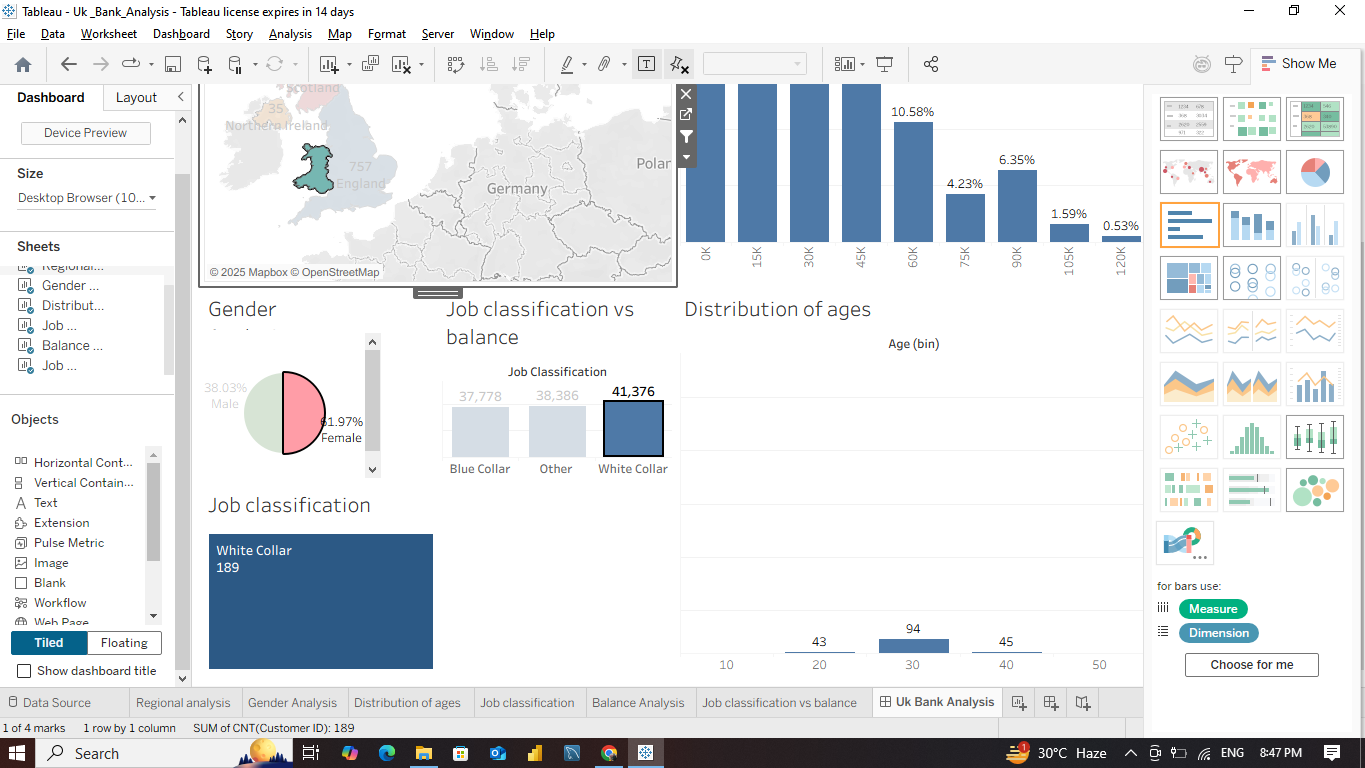

What the dashboard file says about the page in this screenshot:
{"tool":"tableau","page":{"name":"Uk Bank Analysis","canvas":[1000,800],"ordinal":0},"visuals":[{"type":"worksheet","title":"Regional analysis","mark":"Multipolygon","box":[8,8,476,392]},{"type":"worksheet","title":"Balance Analysis","mark":"Bar","rows":["Customer ID"],"cols":["Balance (bin)"],"box":[484,8,476,392]},{"type":"legend","title":"Gender Analysis","param":"[federated.0fj4sqn06t5uvo1am1fju0y30wbb].[none:Gender:nk]","box":[960,8,32,66]},{"type":"filter","title":"Regional analysis","param":"[federated.0fj4sqn06t5uvo1am1fju0y30wbb].[cnt:Customer ID:qk]","box":[960,74,32,69]},{"type":"filter","title":"Regional analysis","param":"[federated.0fj4sqn06t5uvo1am1fju0y30wbb].[none:Region:nk]","box":[960,143,32,127]},{"type":"legend","title":"Regional analysis","param":"[federated.0fj4sqn06t5uvo1am1fju0y30wbb].[none:Region:nk]","box":[960,270,32,106]},{"type":"legend","title":"Job classification","param":"[federated.0fj4sqn06t5uvo1am1fju0y30wbb].[cnt:Customer ID:qk]","box":[960,376,32,65]},{"type":"worksheet","title":"Gender Analysis","mark":"Pie","box":[8,400,238,196]},{"type":"worksheet","title":"Job classification vs balance","mark":"Automatic","rows":["Balance"],"cols":["Job Classification"],"box":[246,400,238,196]},{"type":"worksheet","title":"Distribution of ages","mark":"Automatic","rows":["Customer ID"],"cols":["Age (bin)"],"box":[484,400,476,392]},{"type":"worksheet","title":"Job classification","mark":"Automatic","box":[8,596,476,196]}]}

Visuals, with their boxes on the page's 1000x800 design canvas (x1, y1, x2, y2). These are canvas units, not pixel positions in the 1365x768 screenshot, which may show the page scaled, cropped or inside an application window:
"Regional analysis" worksheet (Multipolygon marks): select_region(8, 8, 484, 400)
"Balance Analysis" worksheet (Bar marks): select_region(484, 8, 960, 400)
"Gender Analysis" legend: select_region(960, 8, 992, 74)
"Regional analysis" filter: select_region(960, 74, 992, 143)
"Regional analysis" filter: select_region(960, 143, 992, 270)
"Regional analysis" legend: select_region(960, 270, 992, 376)
"Job classification" legend: select_region(960, 376, 992, 441)
"Gender Analysis" worksheet (Pie marks): select_region(8, 400, 246, 596)
"Job classification vs balance" worksheet: select_region(246, 400, 484, 596)
"Distribution of ages" worksheet: select_region(484, 400, 960, 792)
"Job classification" worksheet: select_region(8, 596, 484, 792)
